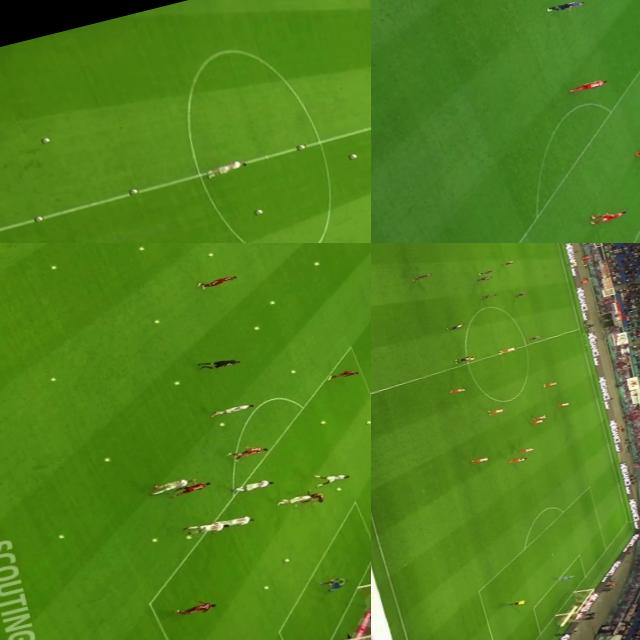ball: (344, 152, 358, 162), (204, 250, 216, 258), (127, 188, 140, 195), (146, 537, 159, 544), (32, 215, 44, 222), (216, 421, 228, 428), (280, 557, 292, 564), (40, 134, 50, 142), (172, 379, 182, 387), (253, 208, 263, 215), (310, 260, 320, 267), (184, 533, 194, 540), (296, 143, 307, 149), (266, 300, 277, 306), (251, 325, 260, 332), (48, 264, 58, 270), (286, 369, 296, 375), (334, 486, 344, 492), (260, 586, 270, 592), (137, 245, 146, 251), (494, 352, 502, 357), (50, 376, 56, 382), (320, 418, 326, 424), (105, 456, 111, 462), (153, 319, 160, 324), (59, 534, 66, 539), (367, 419, 371, 424)
player: (222, 443, 270, 464), (184, 516, 228, 538), (175, 600, 219, 618), (206, 160, 247, 178), (217, 513, 255, 532), (590, 207, 630, 225), (566, 78, 610, 94), (198, 274, 236, 292), (151, 478, 189, 496), (311, 469, 349, 486), (235, 478, 272, 494), (544, 0, 585, 14), (173, 481, 211, 496), (212, 402, 252, 416), (326, 367, 361, 381), (276, 492, 311, 506), (324, 574, 348, 594), (301, 490, 325, 508), (467, 455, 491, 466), (554, 572, 578, 582), (444, 322, 466, 332), (486, 406, 506, 416), (410, 272, 432, 281), (472, 275, 492, 284), (451, 356, 473, 364), (540, 379, 559, 388), (478, 292, 497, 300), (508, 456, 526, 464), (498, 346, 516, 354), (449, 386, 466, 394), (513, 290, 529, 298), (528, 418, 544, 426), (516, 446, 532, 454), (501, 259, 516, 267), (528, 334, 544, 341), (477, 269, 494, 275), (532, 414, 546, 420), (556, 402, 570, 407)
